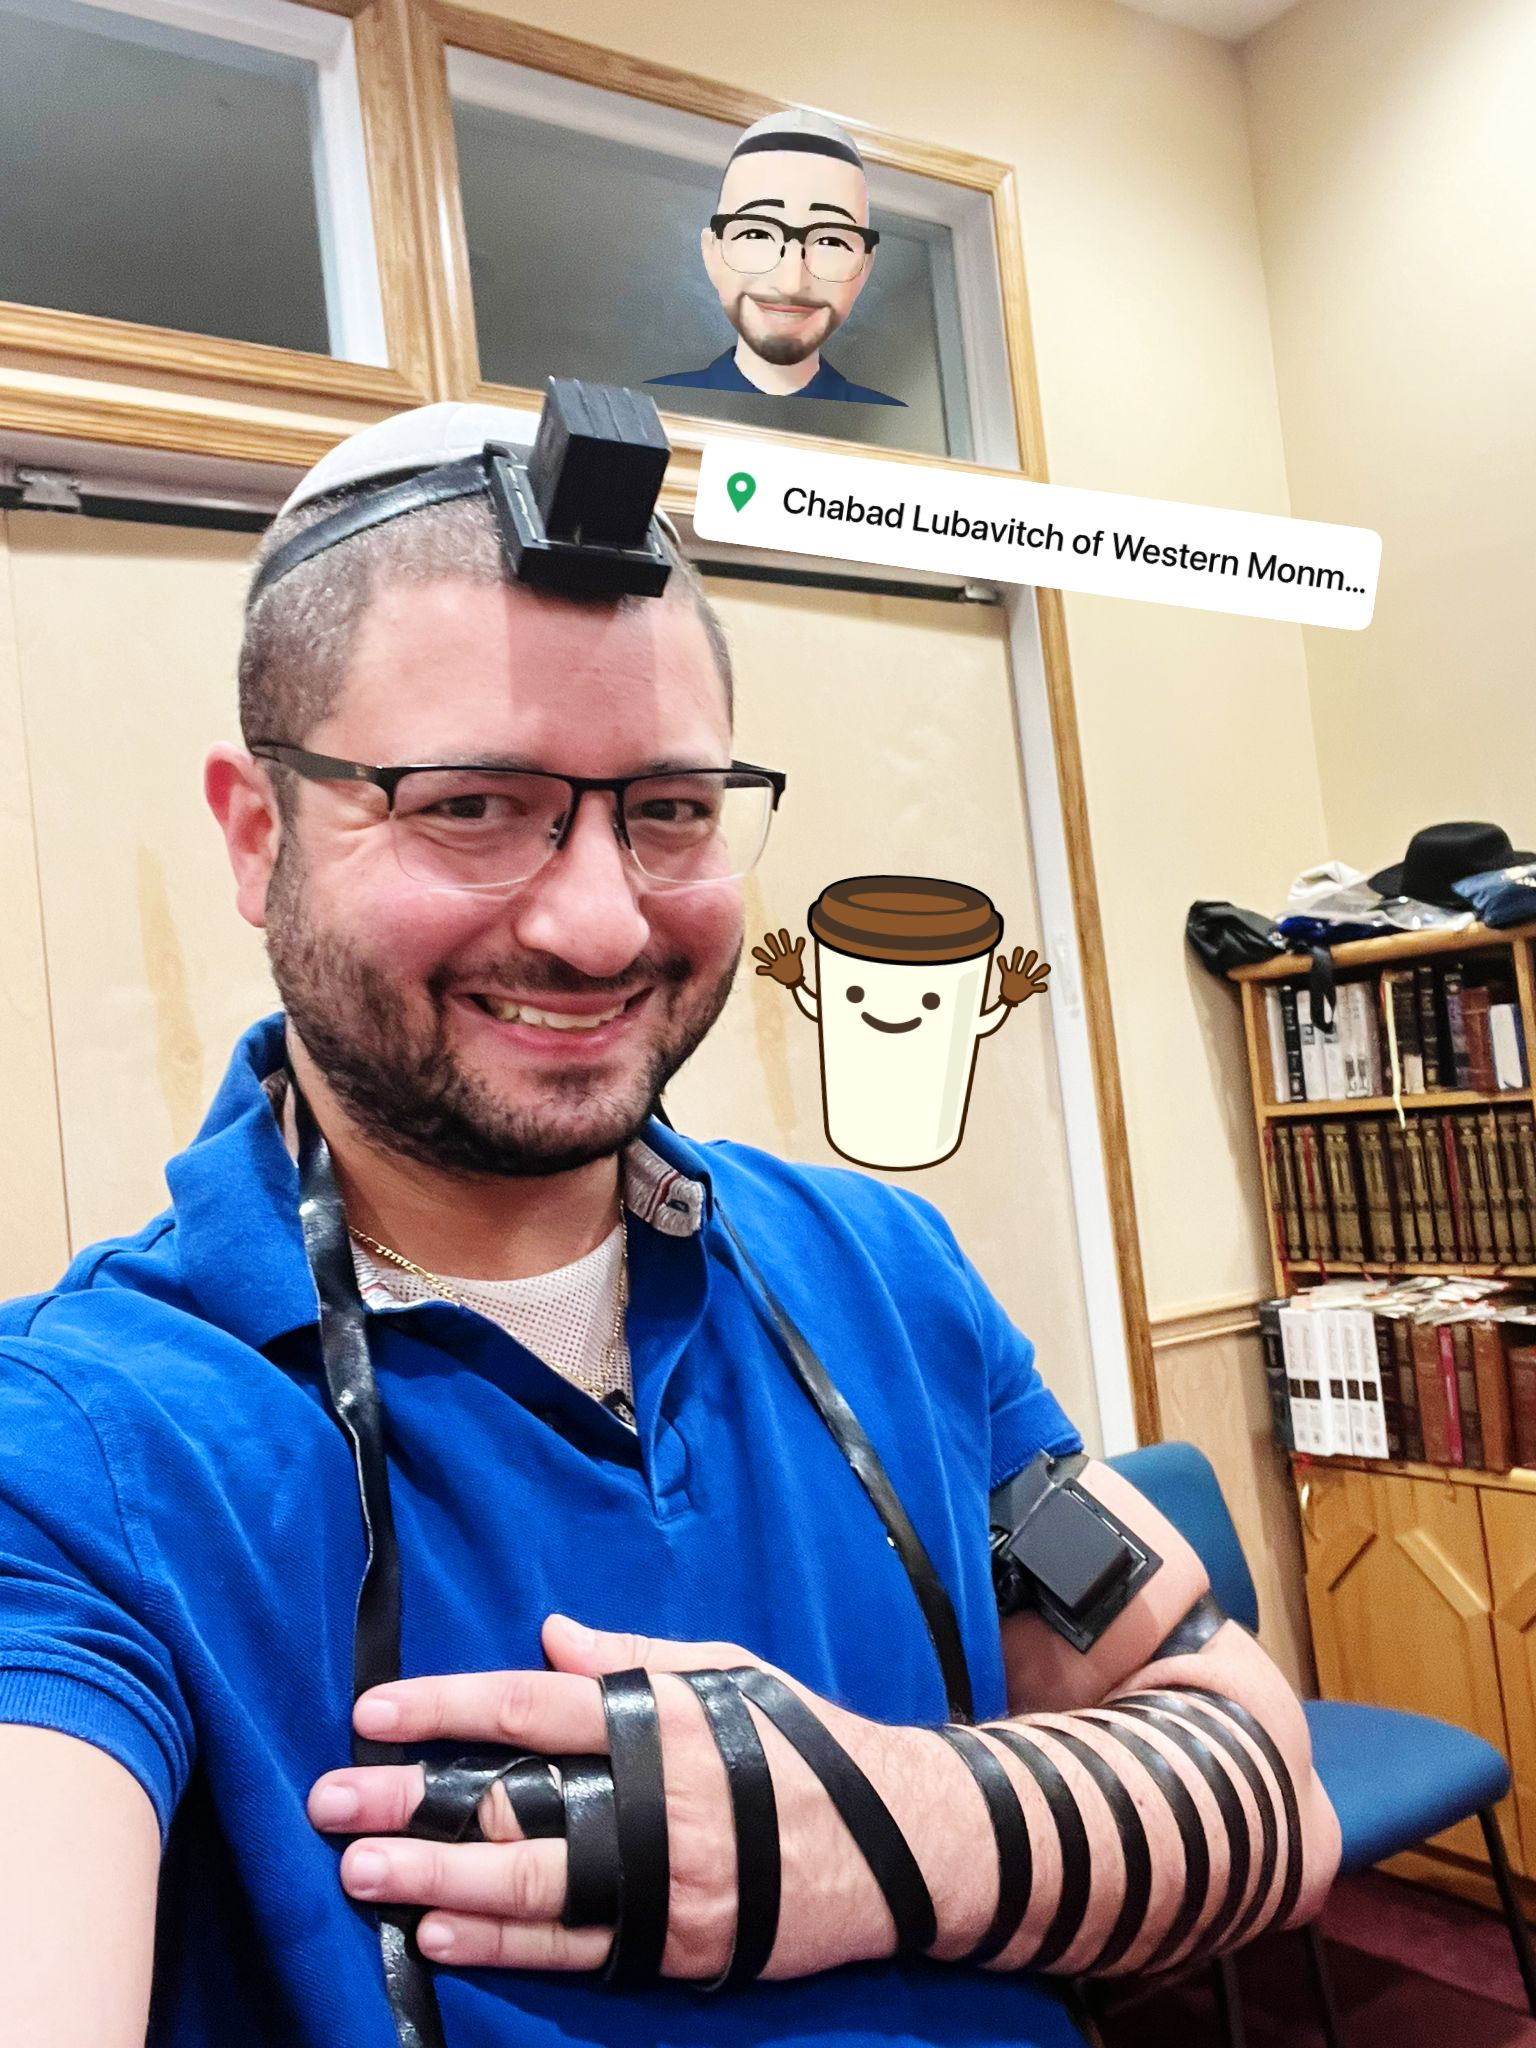tefillin: (486, 379, 673, 598), (992, 1456, 1162, 1651)
